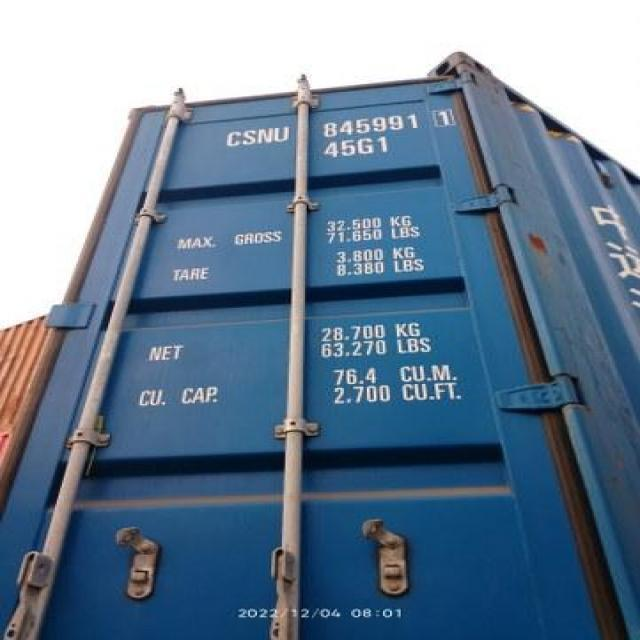container_number_h: (201, 94, 476, 183)
